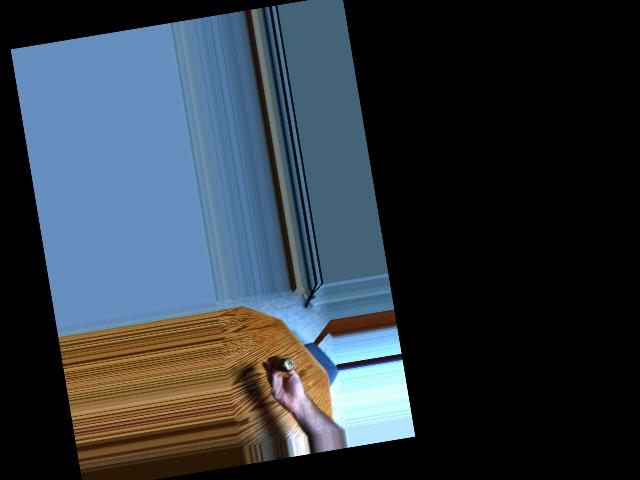sweet_potato: (265, 351, 300, 379)
